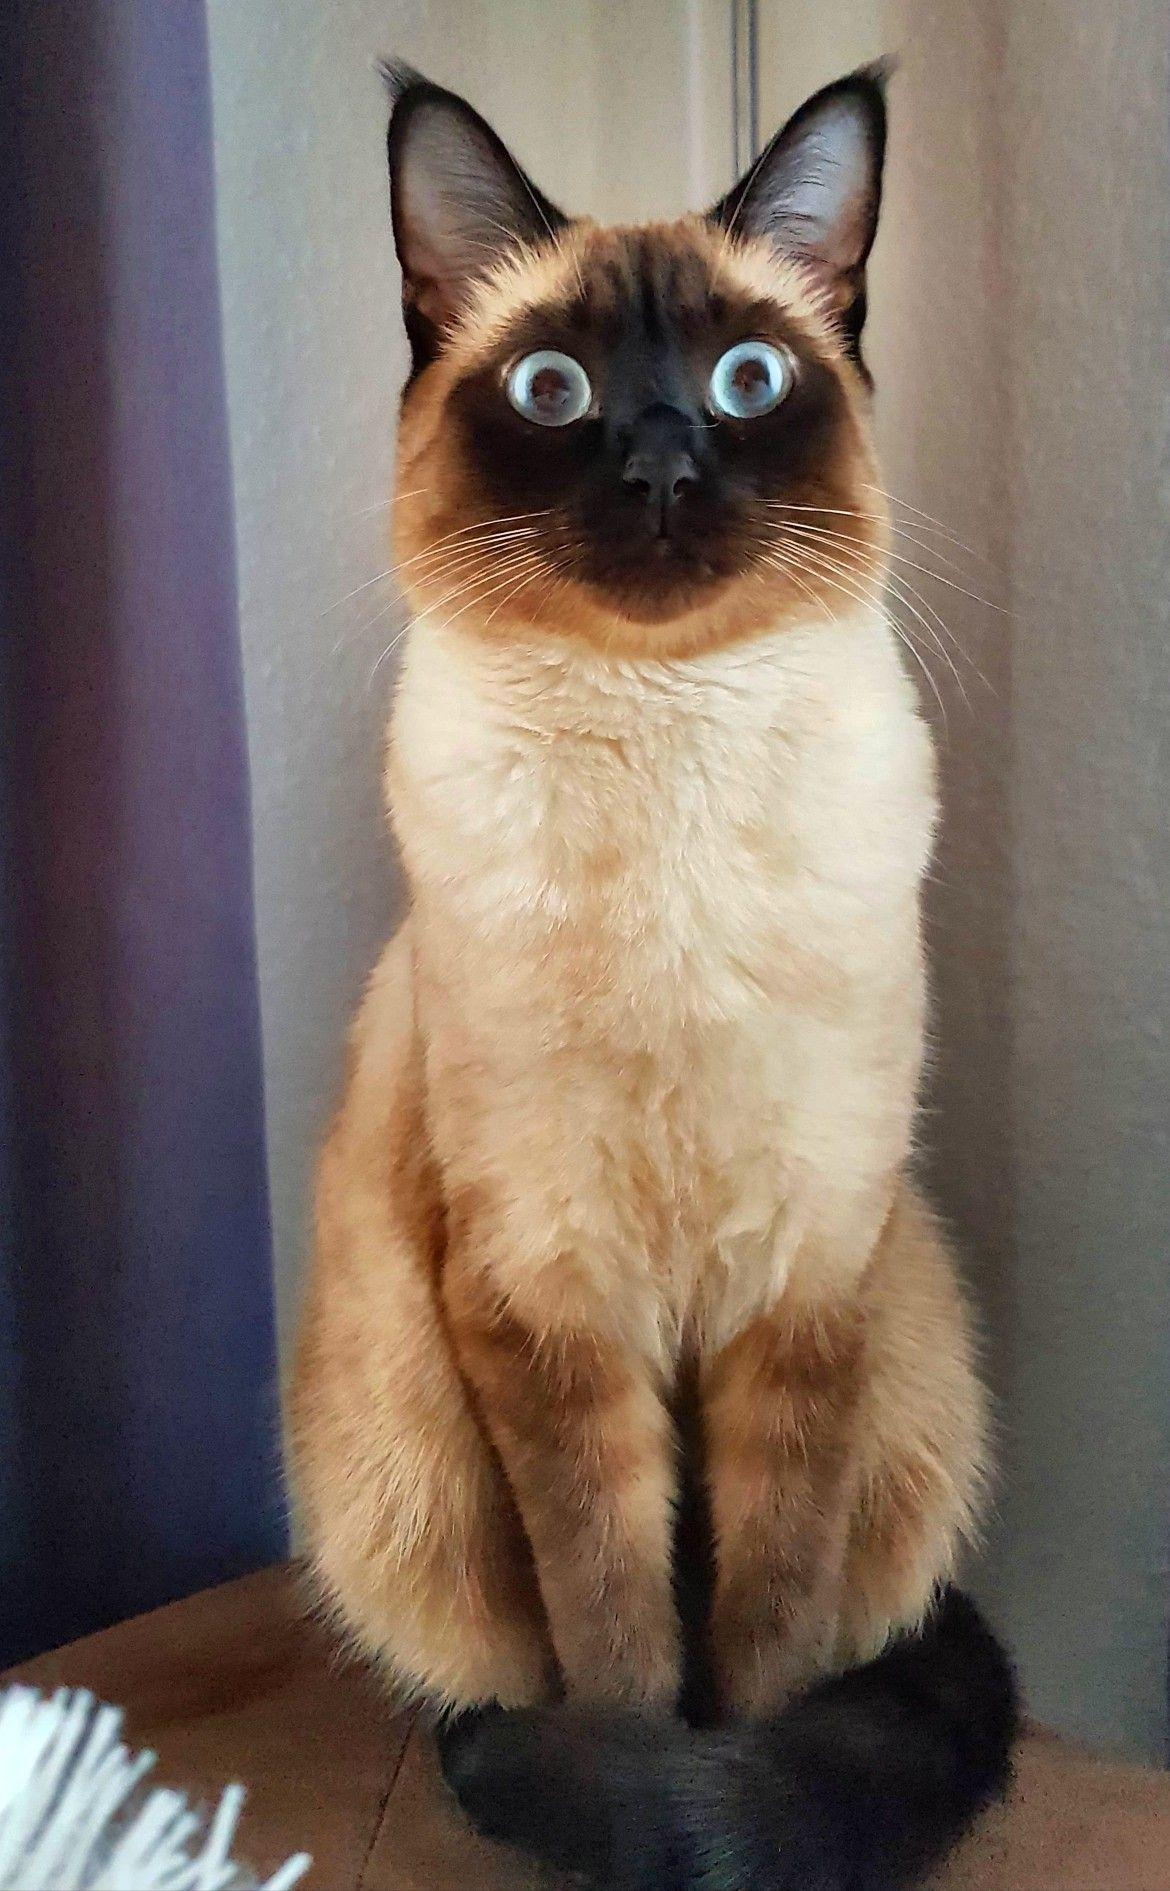siamese: (351, 49, 934, 659)
